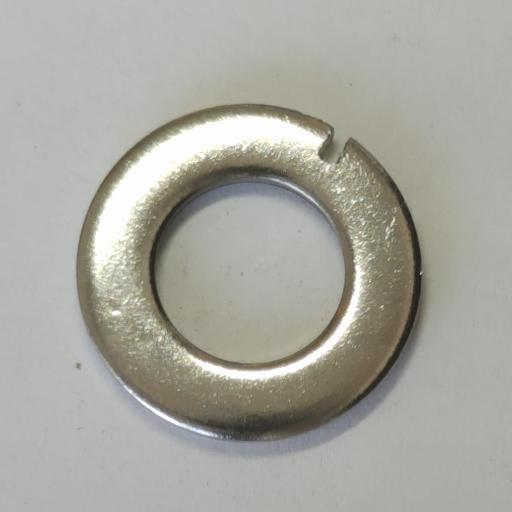burr: (316, 125, 352, 168)
